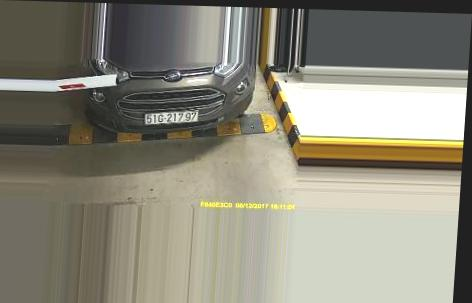License_Plate: (143, 108, 200, 128)
